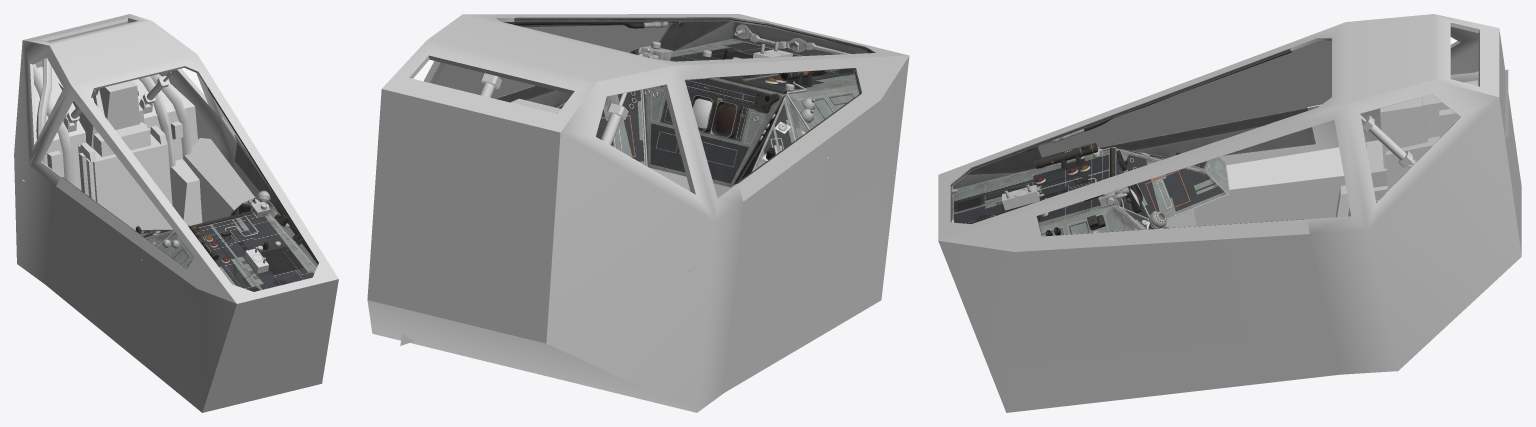
The model's file is xwingcockpit.glb.
The picture shows the model from 3 angles, left to right: view 1: azimuth 30°, elevation 25°; view 2: azimuth 150°, elevation 25°; view 3: azimuth 270°, elevation 25°; orthographic projection. The views are drawn at different scales.
Bounding box in the file's own units: 1.17 × 1.42 × 2.29.
2 materials, 1 textured.
